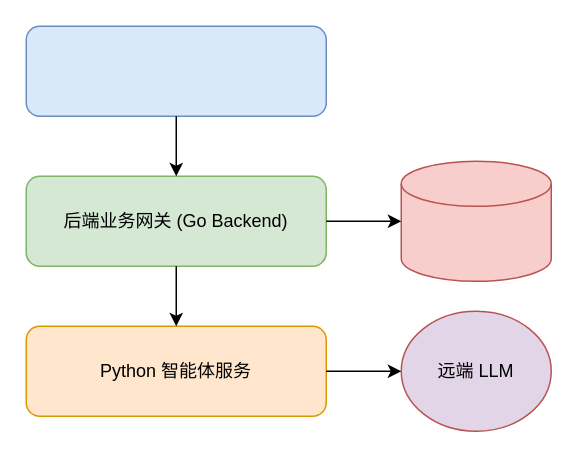
Image size: 578x458. Some labels were removed from this diagram. Here are the shapes that lost their labels. From the top down, the box of each, then its label:
(25, 25, 326, 116): 前端交互服务 (Frontend)
(400, 160, 551, 281): 持久化存储 (DB)
